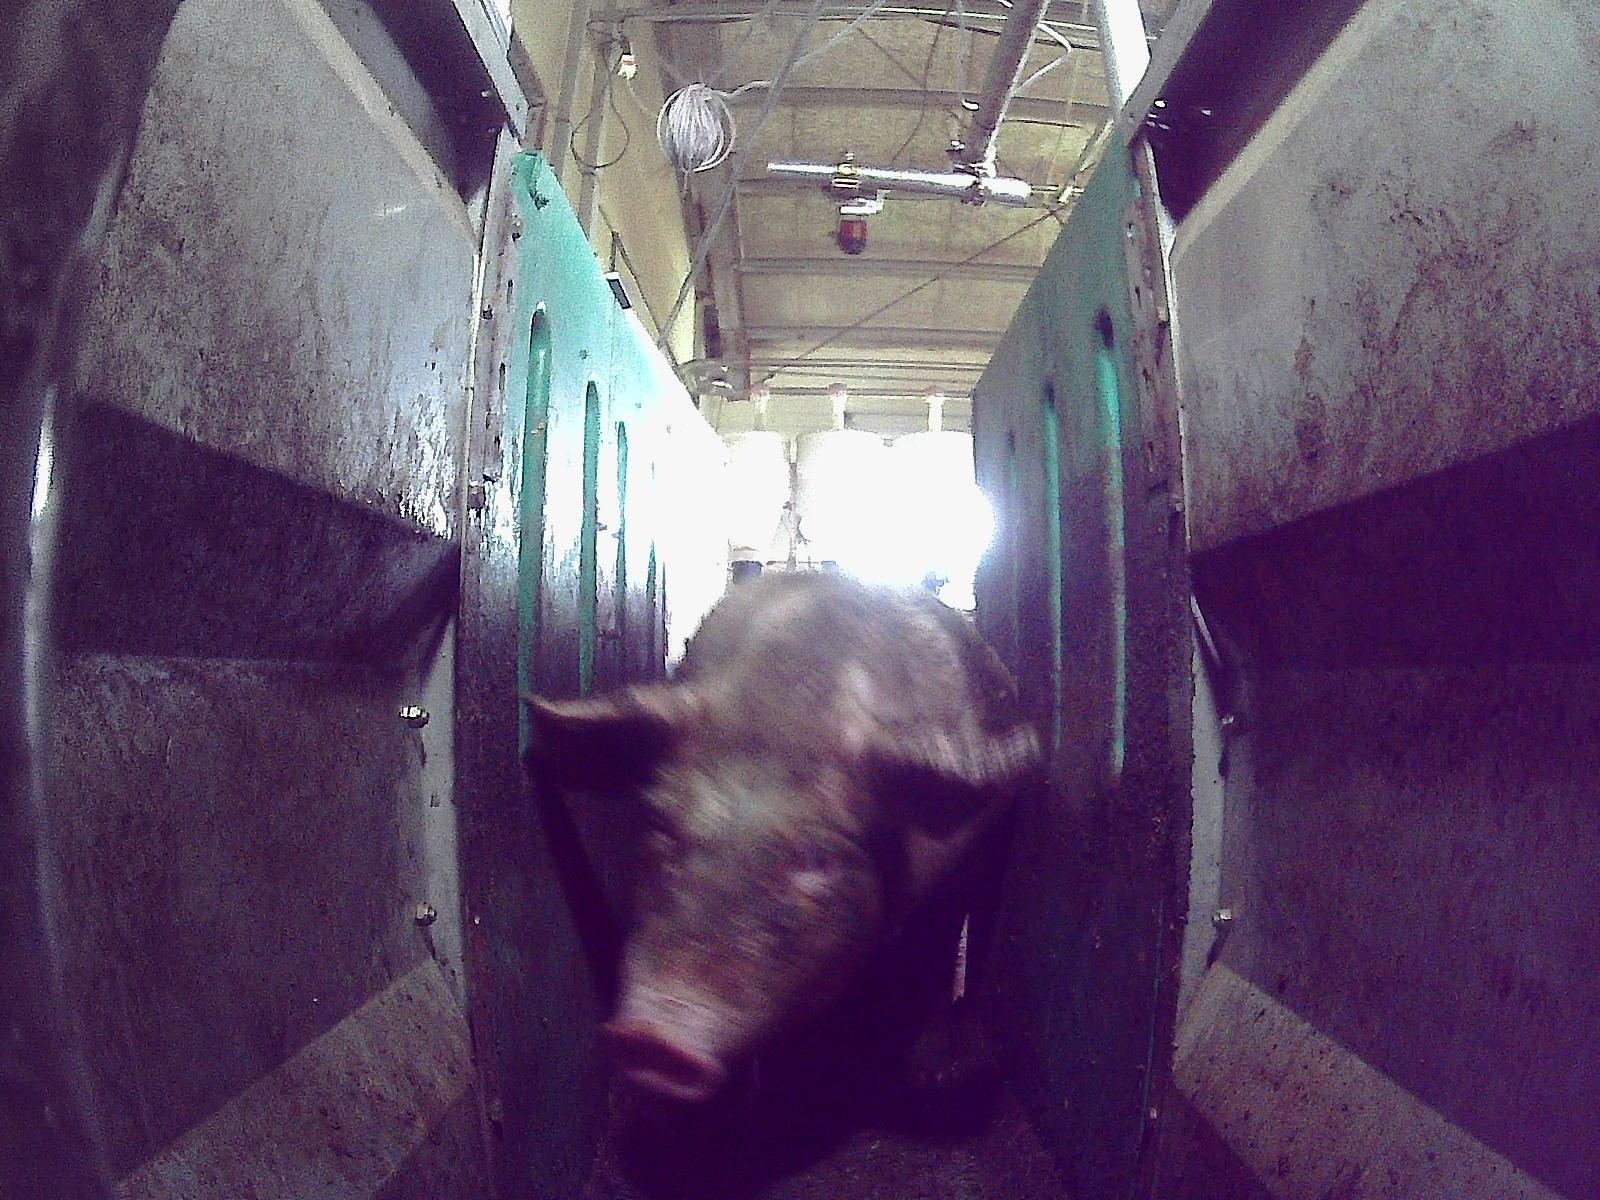Face: (599, 723, 880, 1101)
